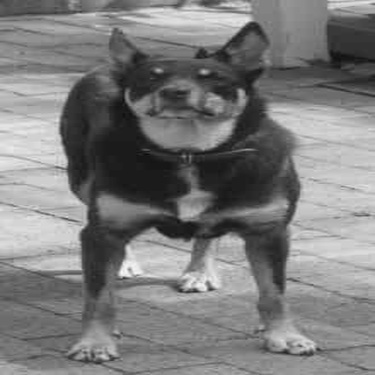dog: (41, 17, 325, 366)
